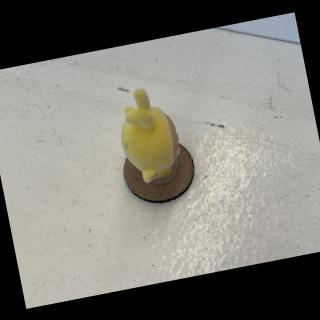teletubby: (121, 88, 179, 182)
